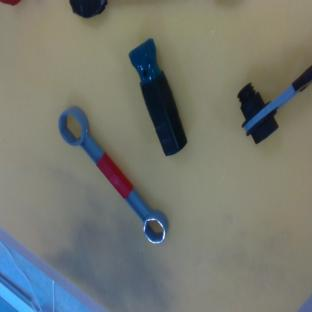part_2_bad: (125, 37, 192, 157)
part_3_bad: (69, 0, 107, 18)
part_3_good: (50, 102, 176, 250)
